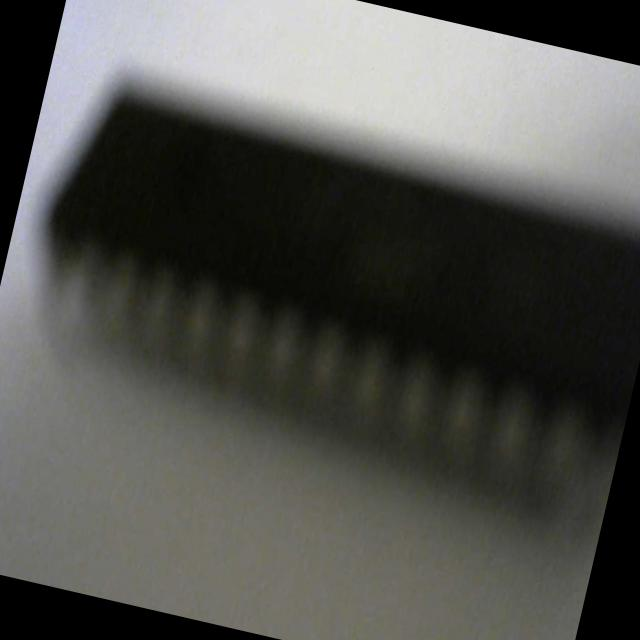atmega: (0, 51, 640, 531)
